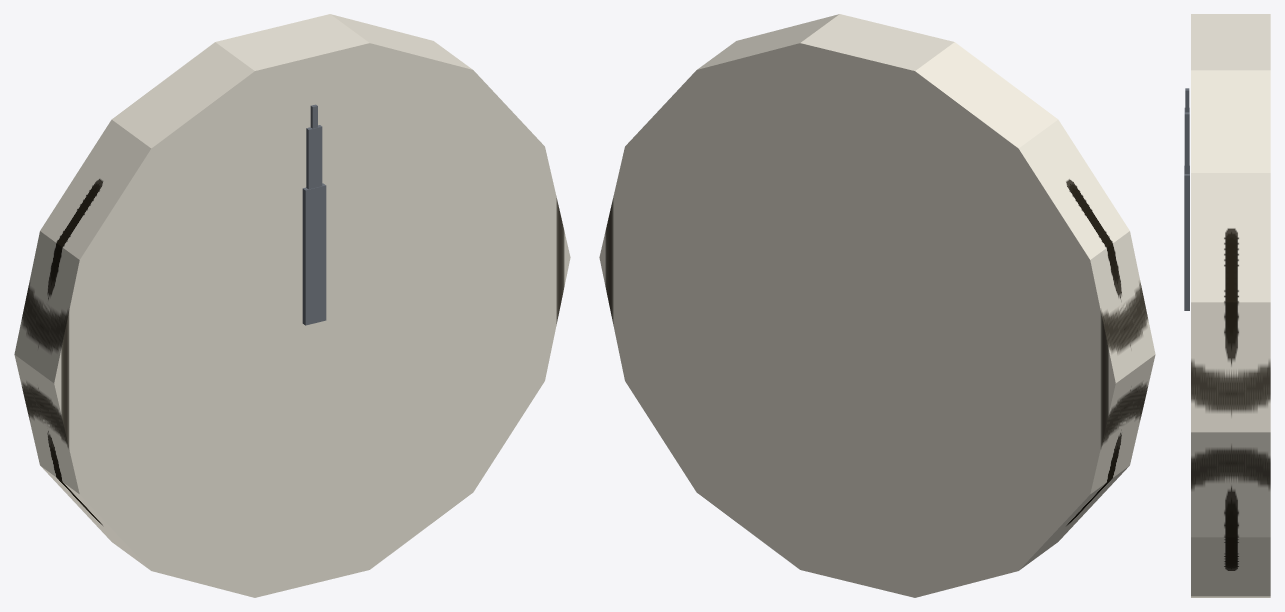
The model's file is relogio.glb.
3 views of the same model, side by side, from view 1: azimuth 30°, elevation 25°; view 2: azimuth 150°, elevation 25°; view 3: azimuth 270°, elevation 25° (orthographic).
Visible parts, largest first — view 1: relogio; view 2: relogio; view 3: relogio.
Boxes of the visible parts, x1=… form: relogio: x1=14, y1=14, x2=570, y2=597; relogio: x1=599, y1=14, x2=1155, y2=597; relogio: x1=1184, y1=14, x2=1270, y2=597.
Bounding box in the file's own units: 0.3 × 0.2925 × 0.0435.
Materials: 2 (1 with a texture image).
